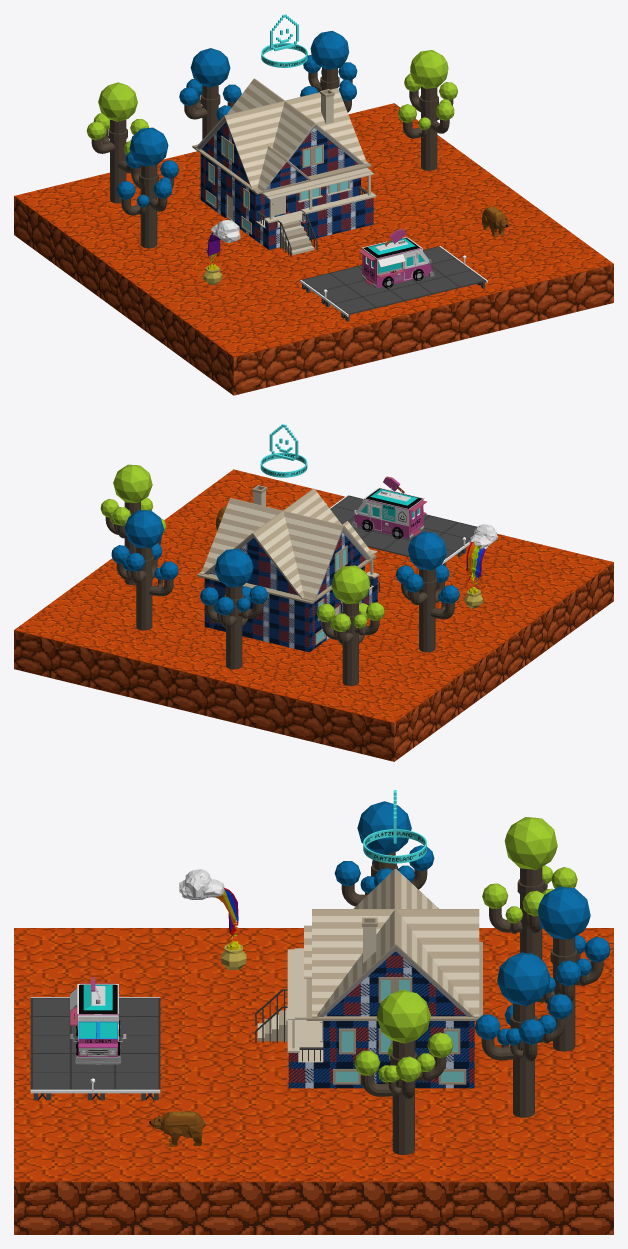
3 views of the same model, one above another, from view 1: azimuth 30°, elevation 25°; view 2: azimuth 150°, elevation 25°; view 3: azimuth 270°, elevation 25° (orthographic). The views are drawn at different scales.
Parts seen in each view (by area): view 1: Cube.001, Cube.171, VEHICLES_ICE_CREAM_TRUCK, OBJRANDOM_RAINBOW, TYPE_PREMIUM, ANIMAL_OSO; view 2: Cube.001, Cube.171, VEHICLES_ICE_CREAM_TRUCK, OBJRANDOM_RAINBOW, TYPE_PREMIUM; view 3: Cube.001, Cube.171, VEHICLES_ICE_CREAM_TRUCK, OBJRANDOM_RAINBOW, ANIMAL_OSO, TYPE_PREMIUM.
Boxes of the visible parts, bbox=[...] form: Cube.001: bbox=[14, 30, 613, 395]; Cube.171: bbox=[192, 78, 376, 256]; VEHICLES_ICE_CREAM_TRUCK: bbox=[358, 228, 434, 288]; OBJRANDOM_RAINBOW: bbox=[203, 220, 240, 285]; TYPE_PREMIUM: bbox=[261, 14, 307, 67]; ANIMAL_OSO: bbox=[482, 207, 509, 237]; Cube.001: bbox=[14, 464, 613, 761]; Cube.171: bbox=[197, 485, 379, 652]; VEHICLES_ICE_CREAM_TRUCK: bbox=[351, 476, 426, 538]; OBJRANDOM_RAINBOW: bbox=[464, 524, 497, 608]; TYPE_PREMIUM: bbox=[260, 424, 307, 477]; Cube.001: bbox=[14, 801, 613, 1234]; Cube.171: bbox=[255, 869, 482, 1088]; VEHICLES_ICE_CREAM_TRUCK: bbox=[70, 977, 126, 1064]; OBJRANDOM_RAINBOW: bbox=[179, 869, 246, 969]; ANIMAL_OSO: bbox=[149, 1111, 205, 1146]; TYPE_PREMIUM: bbox=[363, 790, 426, 863].
Size of the model in its own units: 4000 by 2410 by 4000.
Materials: 46 (6 with a texture image).
